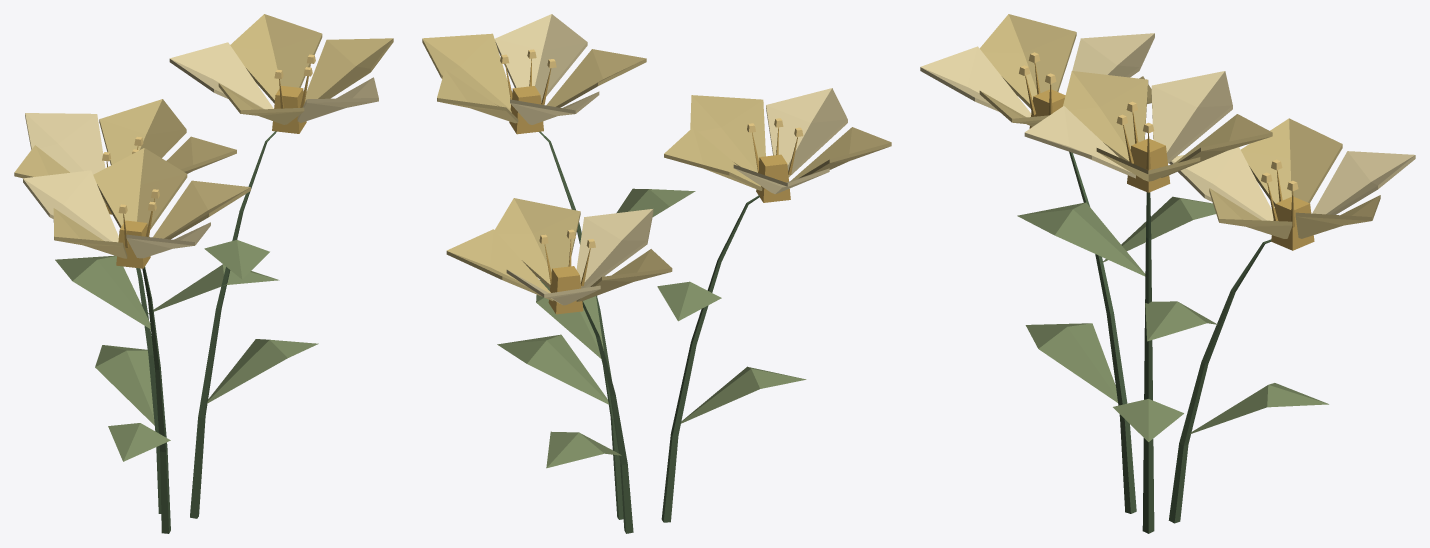
The model's file is DESERT_BLOOM.lo.glb.
The picture shows the model from 3 angles, left to right: view 1: azimuth 30°, elevation 25°; view 2: azimuth 150°, elevation 25°; view 3: azimuth 270°, elevation 25°; orthographic projection. The views are drawn at different scales.
Visible parts, largest first — view 1: DESERT_BLOOM; view 2: DESERT_BLOOM; view 3: DESERT_BLOOM.
Part boxes in pixels (x1,y1,x2,y2): DESERT_BLOOM: (14,14,393,533); DESERT_BLOOM: (422,14,891,533); DESERT_BLOOM: (920,14,1415,533).
Bounding box in the file's own units: 0.3489 × 0.3574 × 0.3421.
1 material, 1 textured.
